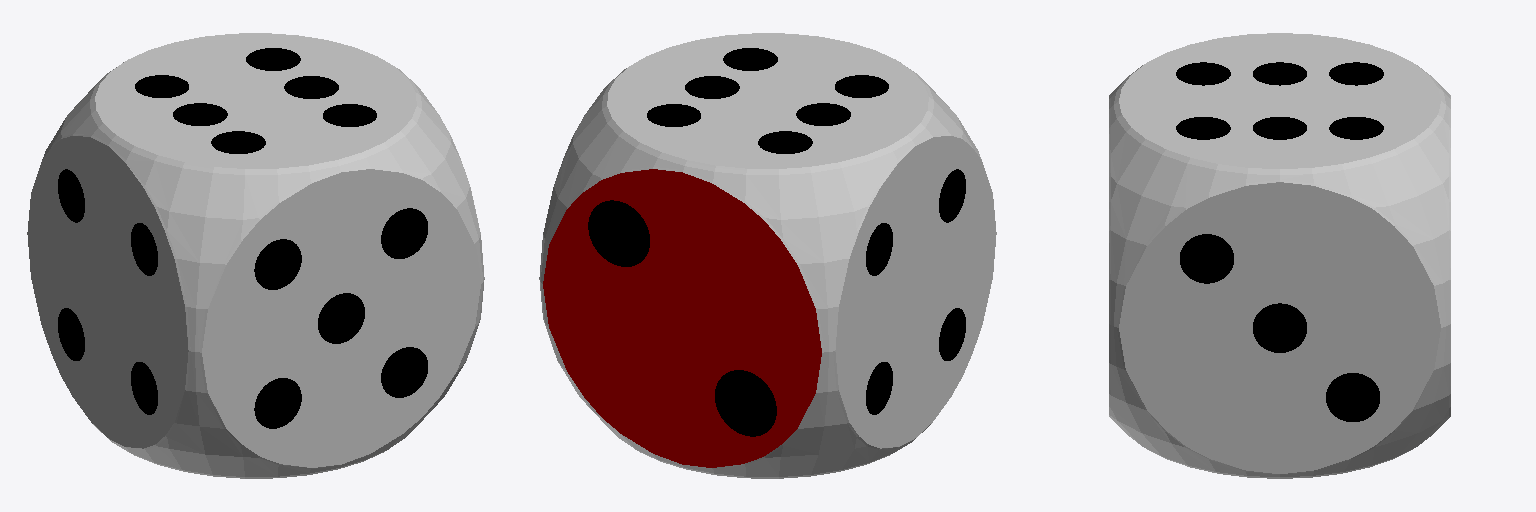
The model's file is diceColored.obj.
The picture shows the model from 3 angles: view 1: azimuth 30°, elevation 25°; view 2: azimuth 150°, elevation 25°; view 3: azimuth 270°, elevation 25°; orthographic projection.
Parts seen in each view (by area): view 1: dice_Cube.001; view 2: dice_Cube.001; view 3: dice_Cube.001.
Boxes of the visible parts, box(x1,y1,x2,y2) form: dice_Cube.001: box(27, 33, 484, 478); dice_Cube.001: box(539, 33, 996, 478); dice_Cube.001: box(1109, 33, 1450, 478).
Size of the model in its own units: 2 by 2 by 2.